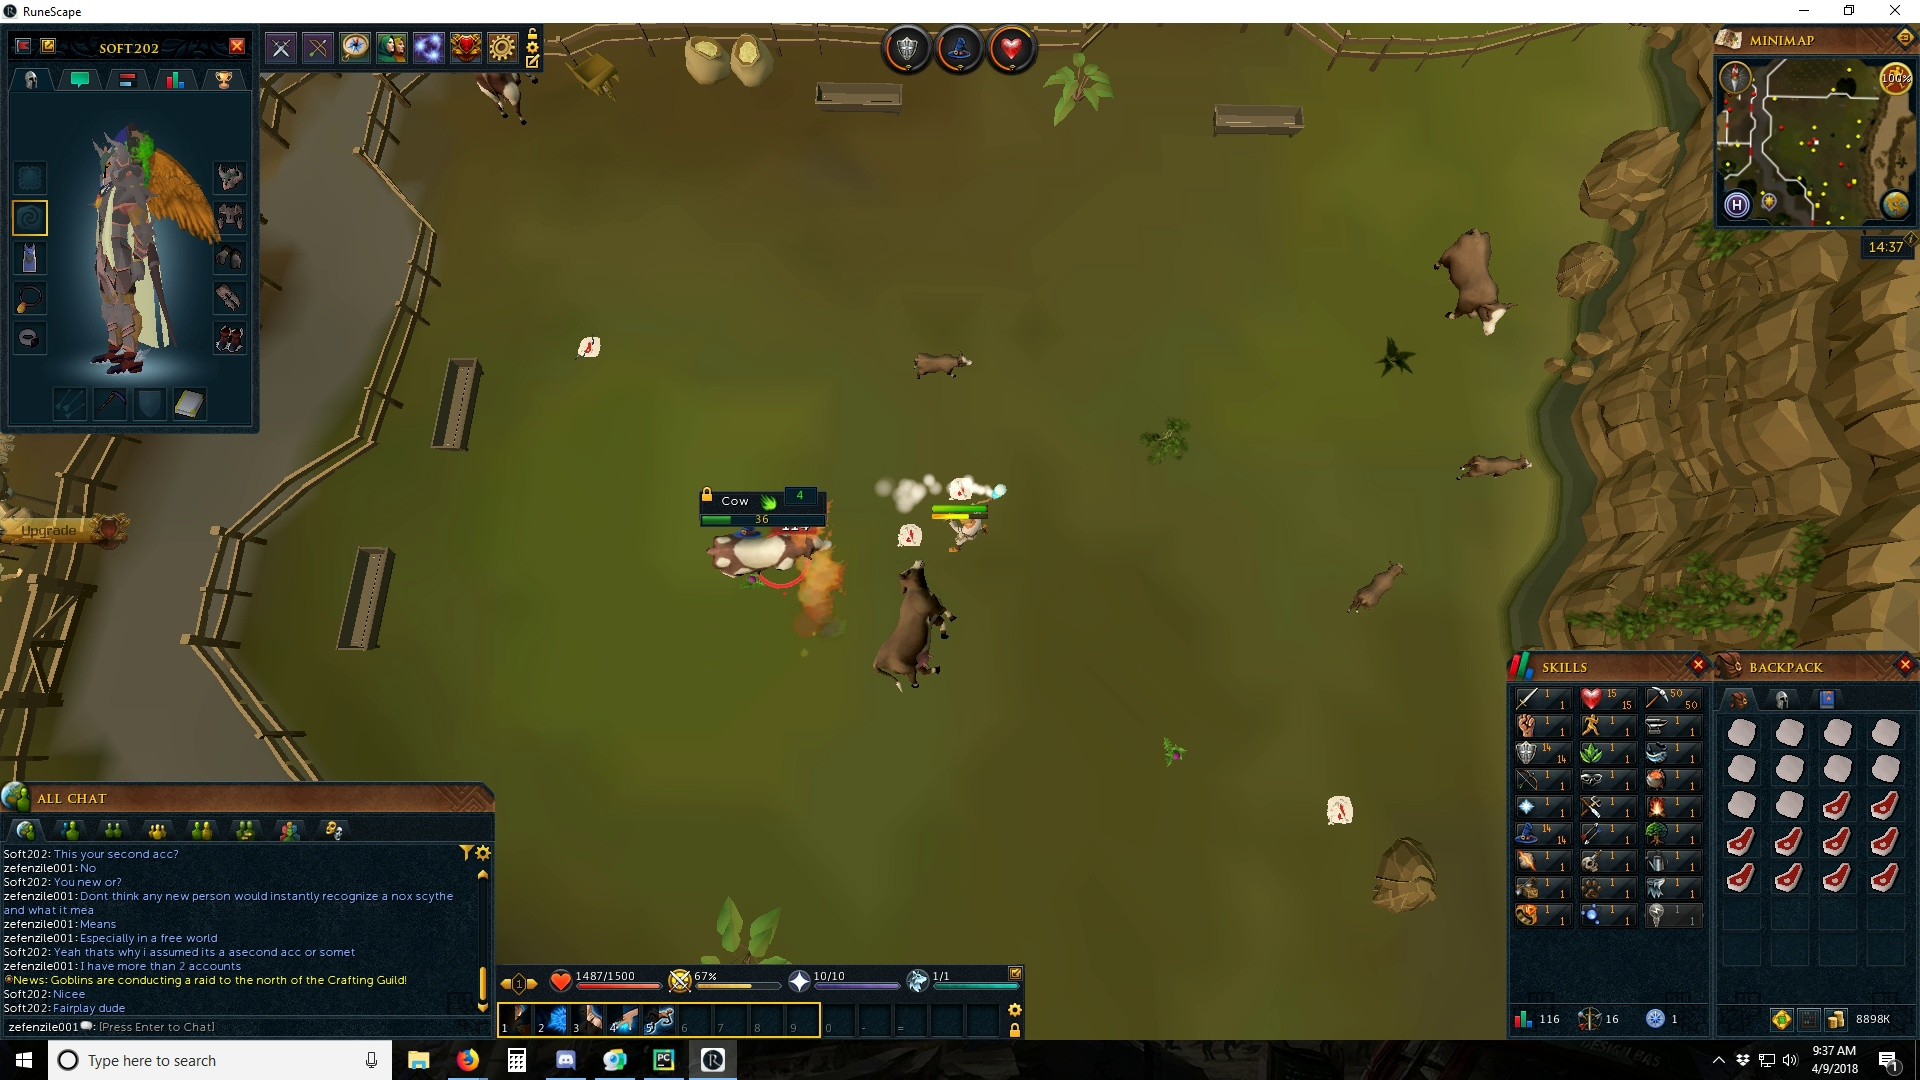calf: (1346, 560, 1404, 622), (1455, 454, 1540, 480), (906, 352, 975, 380)
cow: (1433, 225, 1513, 338), (703, 531, 837, 582)
cow_drop: (1321, 795, 1356, 828), (894, 520, 924, 549), (947, 477, 977, 501), (575, 334, 603, 357)
